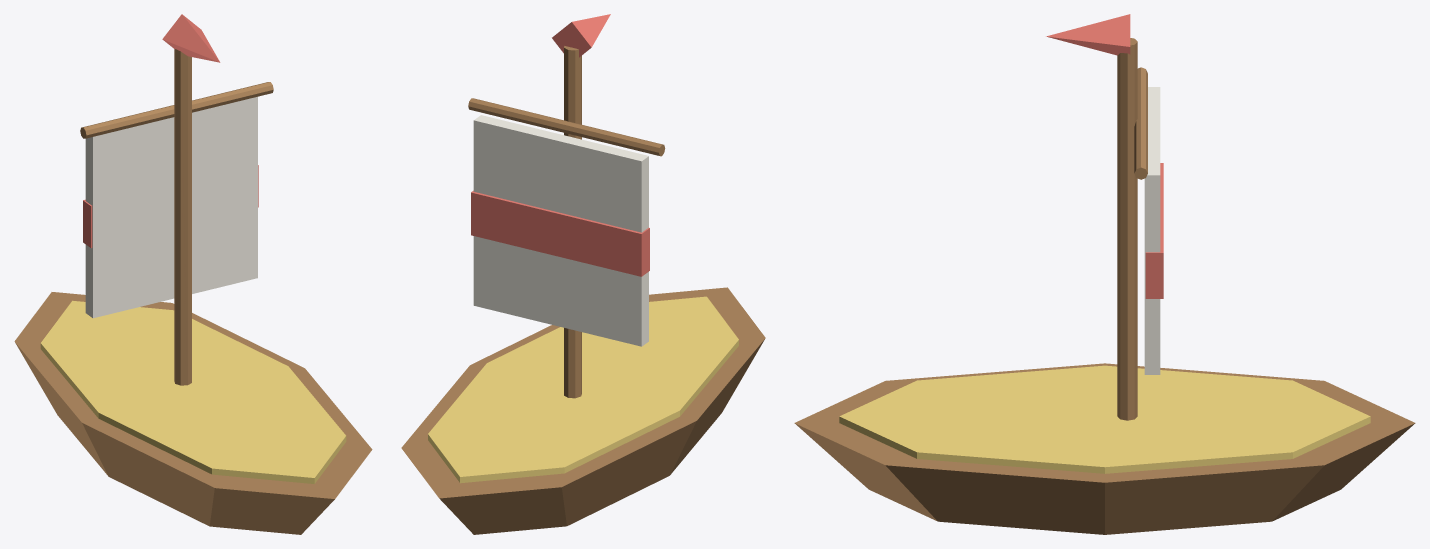
File: SailBoat.fbx
3 views of the same model, side by side, from view 1: azimuth 30°, elevation 25°; view 2: azimuth 150°, elevation 25°; view 3: azimuth 270°, elevation 25° (orthographic). The views are drawn at different scales.
Visible parts, largest first — view 1: SailBoat; view 2: SailBoat; view 3: SailBoat.
Boxes of the visible parts, bbox=[...] form: SailBoat: bbox=[14, 14, 372, 534]; SailBoat: bbox=[401, 14, 765, 534]; SailBoat: bbox=[794, 14, 1415, 534].
Bounding box in the file's own units: 2.5 × 4.64 × 5.5.
